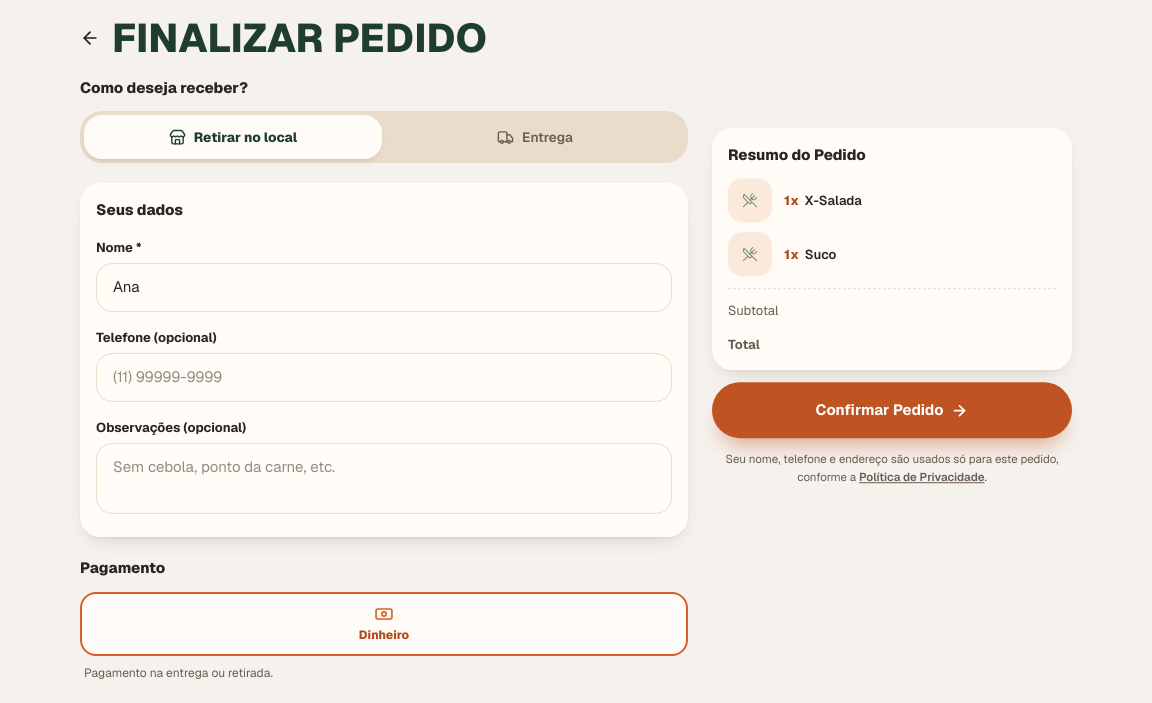
quando o servidor recusa o pedido › item indisponível sai do carrinho e o cliente fica sabendo qual
Expected: the heading "Finalizar Pedido" is shown, left=112, top=20, right=487, bottom=57
What coordinates should you click on to do the following:
click the button "Confirmar Pedido"
I would click on:
 (892, 410)
Its box is left=712, top=382, right=1072, bottom=438.
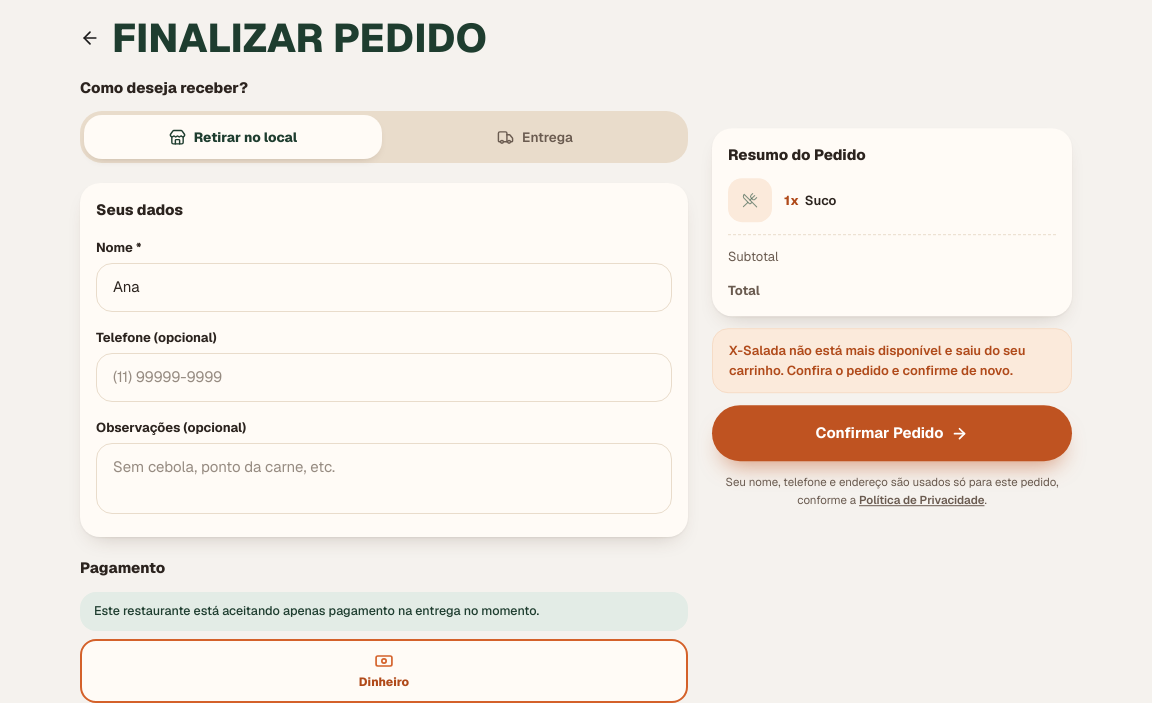
Result: the text "X-Salada não está mais disponível e saiu do seu carrinho" is shown at left=729, top=342, right=1025, bottom=379
